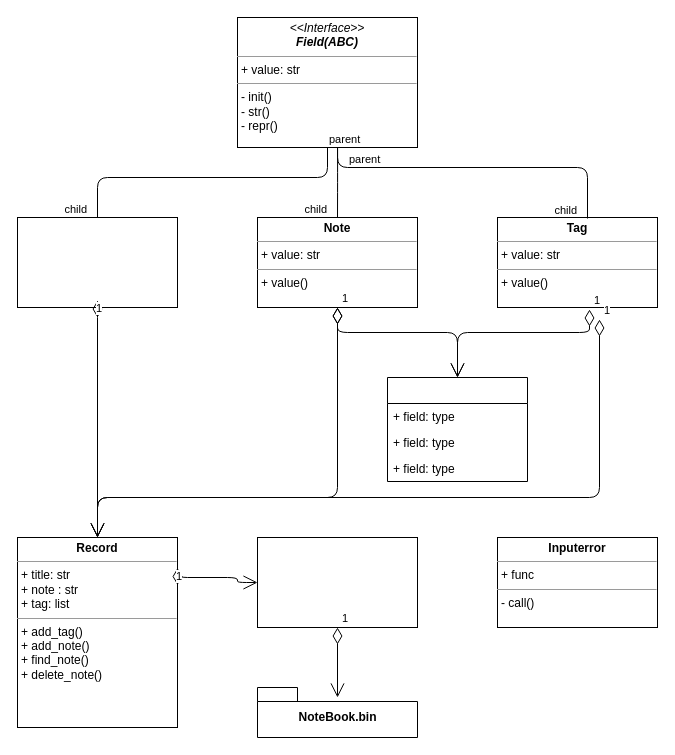
Image size: 675x755. Some labels were removed from this diagram. Each missing label, with the box of its shape:
NoteBook(UserDict) + add_record() + iterator(): (256, 536, 418, 628)
Title + value: str + value(): (16, 216, 178, 308)
Transator: (386, 376, 528, 482)
